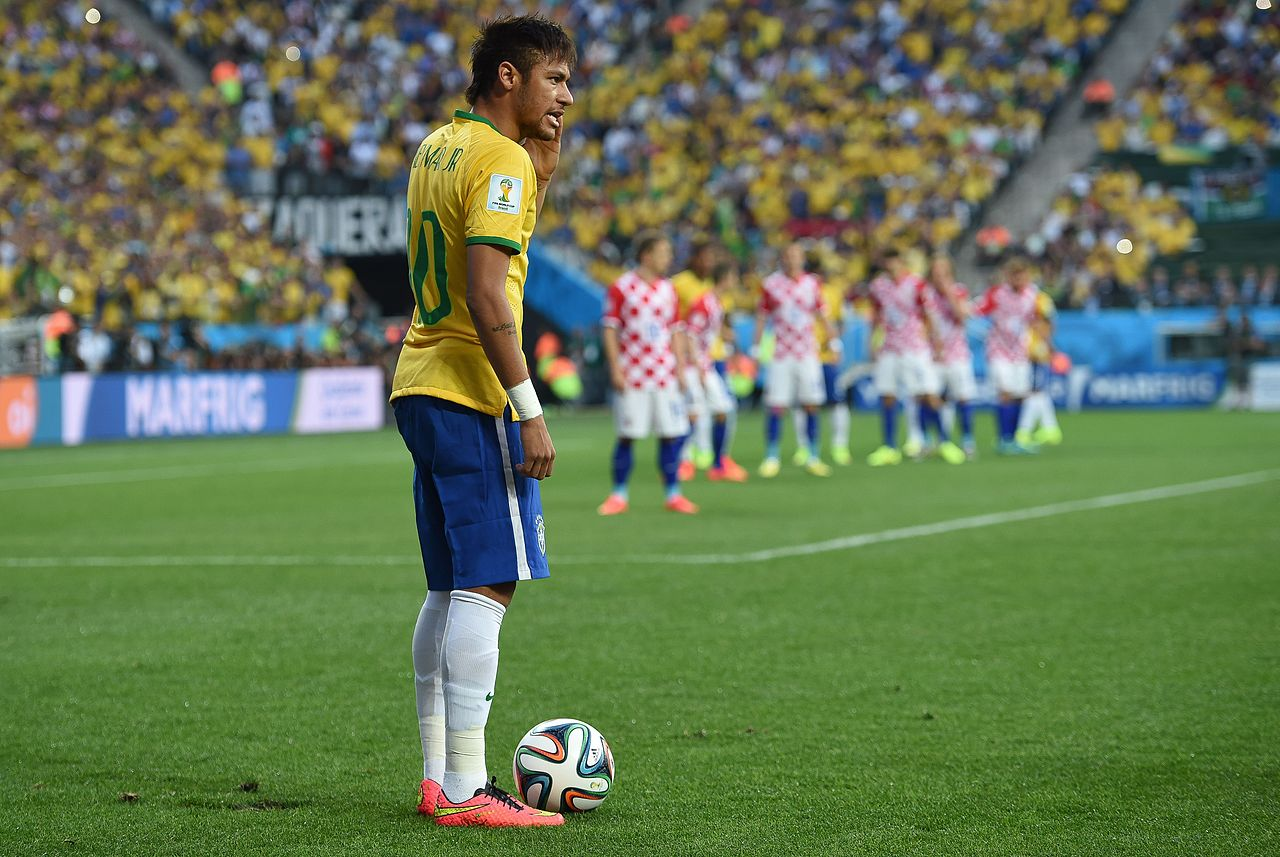football: (509, 716, 617, 817)
